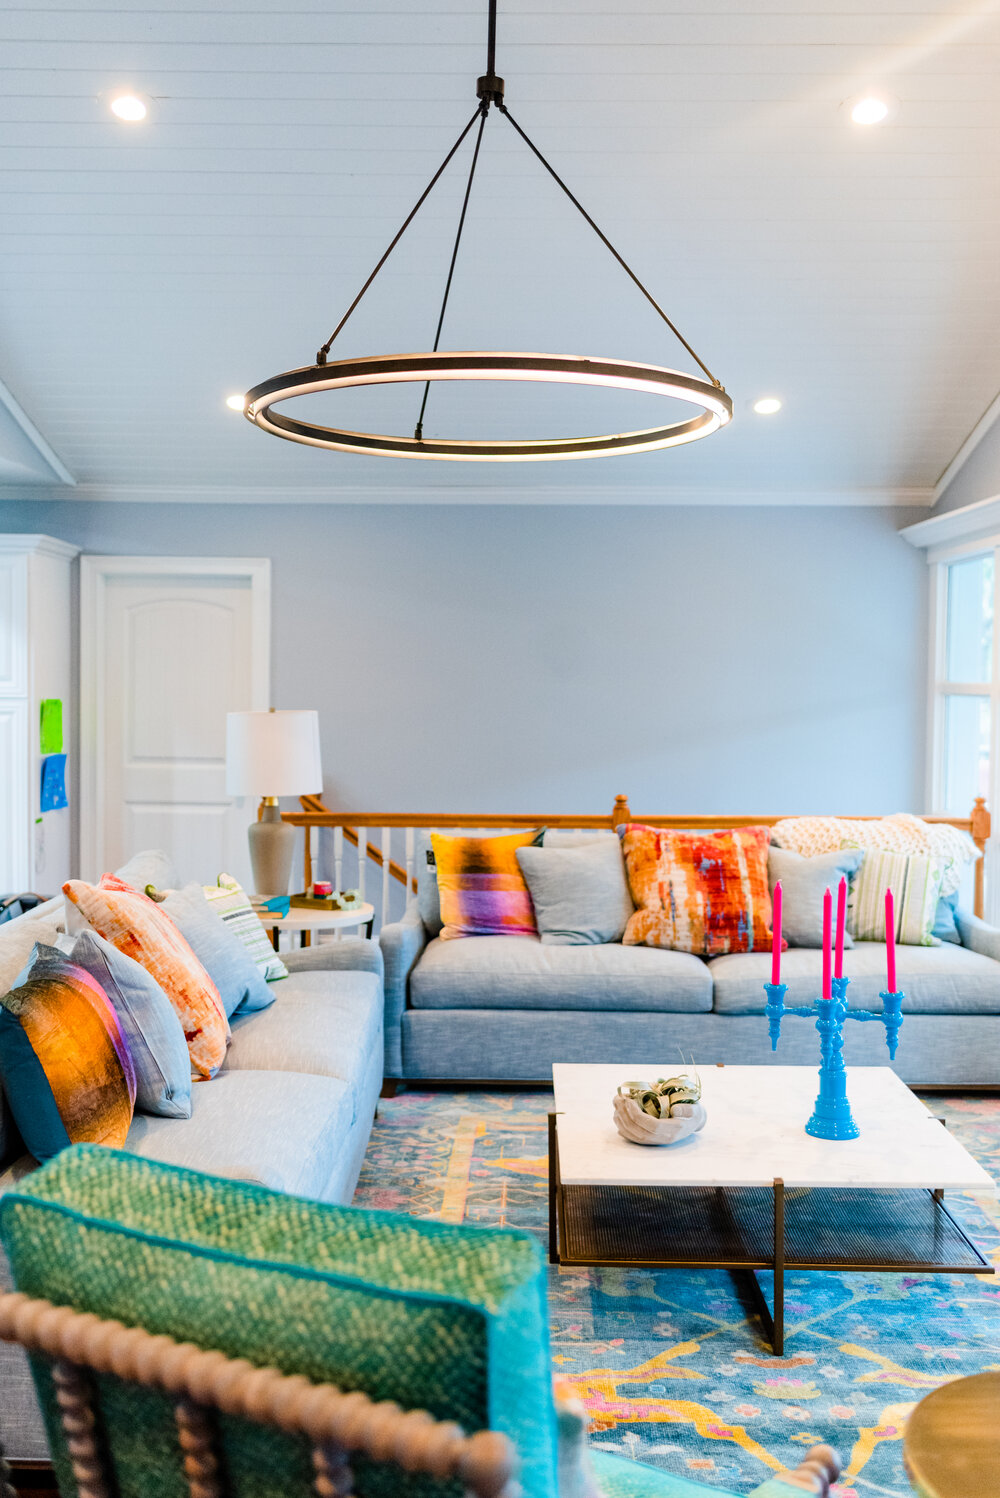biru: (812, 1004, 855, 1145), (36, 764, 71, 810)
hijau: (44, 704, 67, 753)
pink: (834, 874, 847, 987), (886, 893, 900, 1006), (771, 883, 783, 996), (819, 876, 831, 989)
putih: (550, 1062, 989, 1197), (221, 717, 326, 798)
